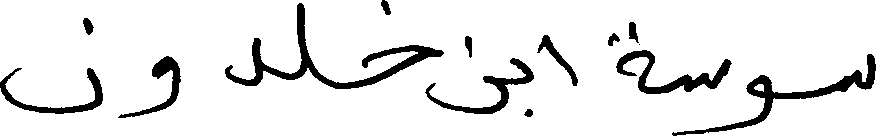ا: (542, 32, 578, 86)
ب: (508, 56, 533, 117)
ة: (601, 19, 654, 94)
خ: (358, 0, 443, 88)
د: (225, 36, 264, 87)
س: (683, 56, 731, 88), (839, 51, 873, 92)
ل: (295, 1, 311, 79)
ن: (0, 16, 104, 114), (446, 33, 510, 113)
و: (148, 54, 180, 113), (744, 73, 774, 128)
